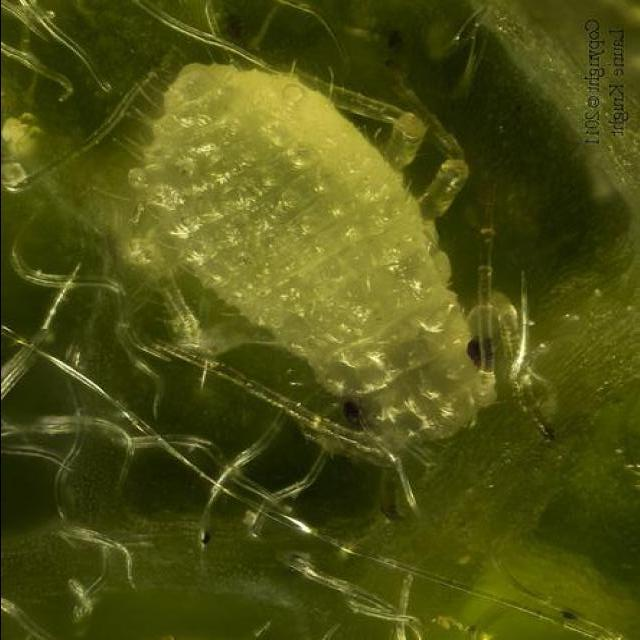aphid: (91, 26, 558, 504)
